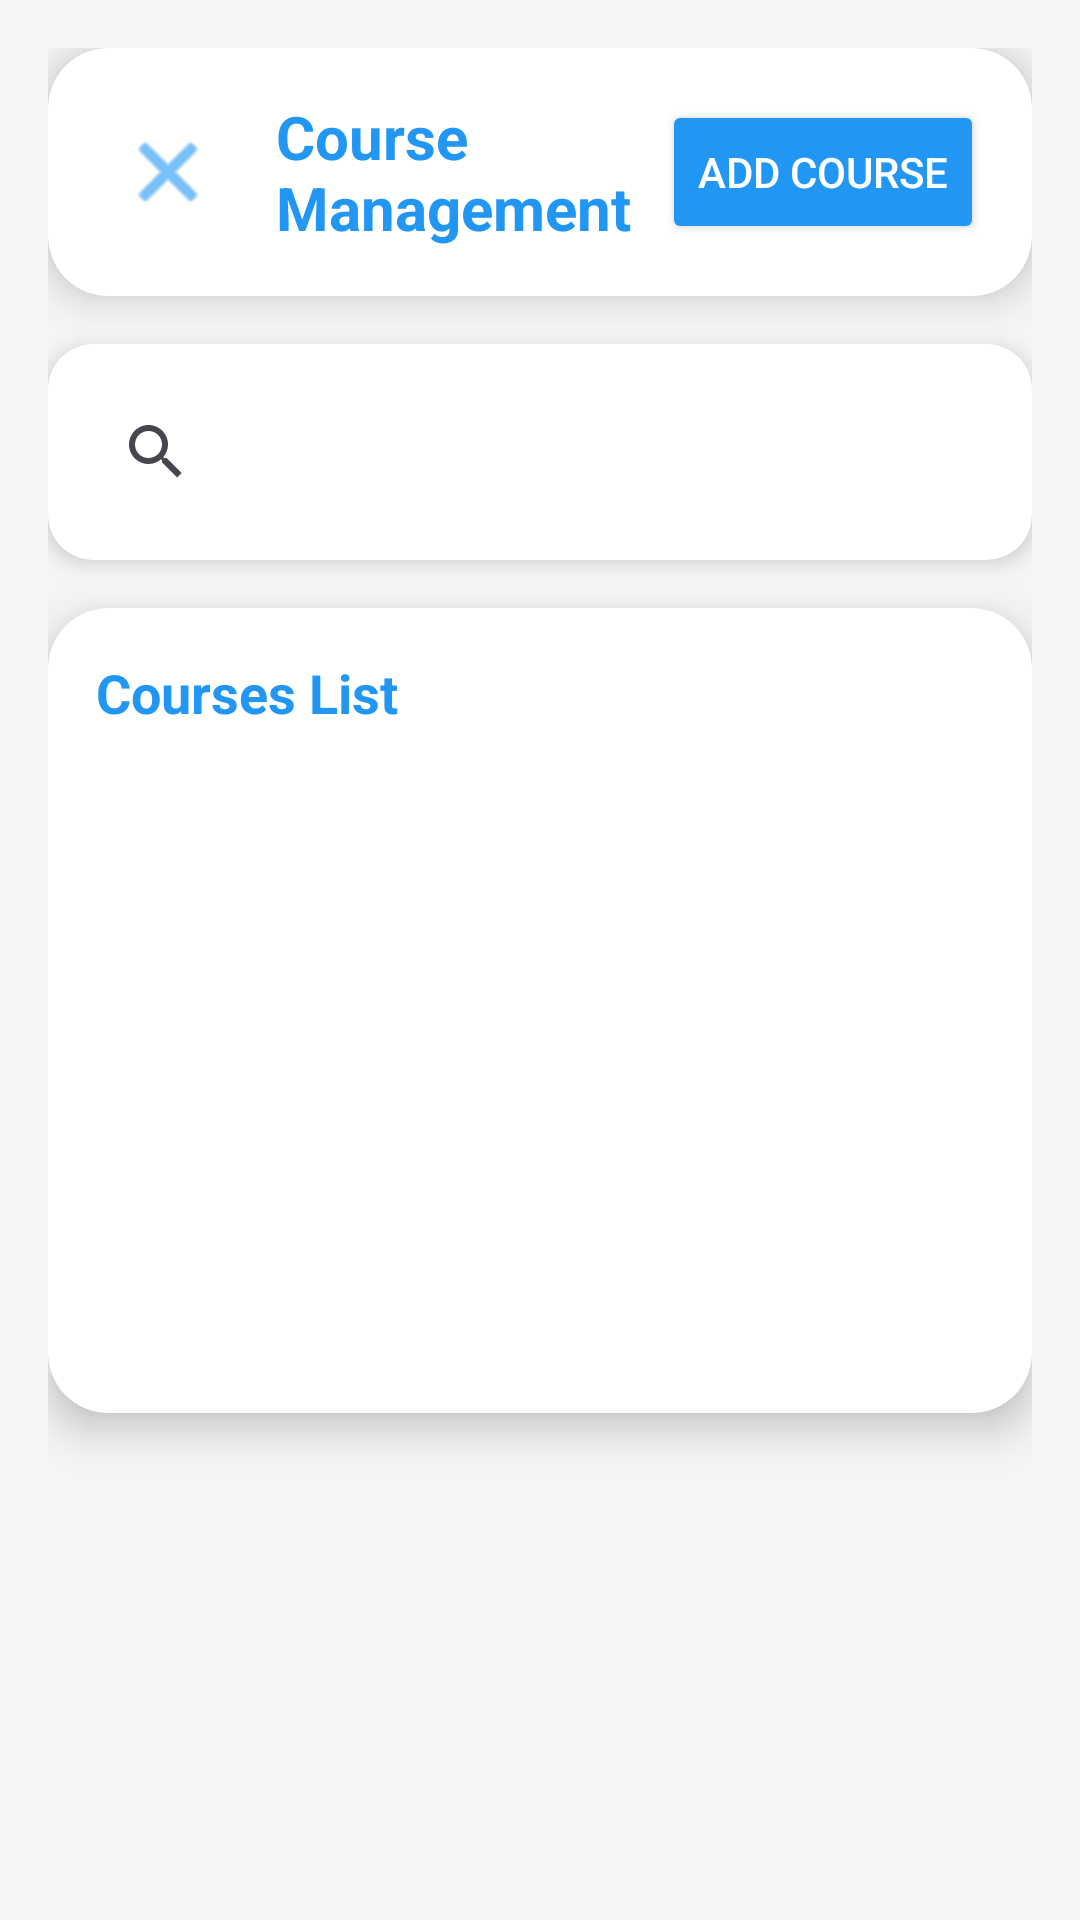

Icons on this 1080 x 1920 Android screen, each with its box as (x1, y1, x2, y2):
close clear cancel: (138, 142, 198, 202)
